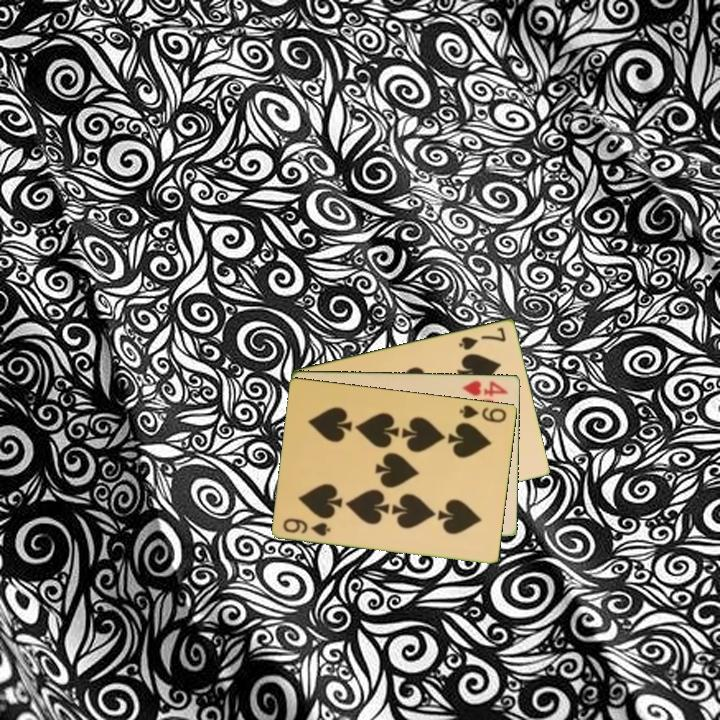4h: (459, 377, 511, 399)
7s: (455, 323, 509, 353)
9s: (280, 514, 334, 539), (456, 401, 510, 425)
